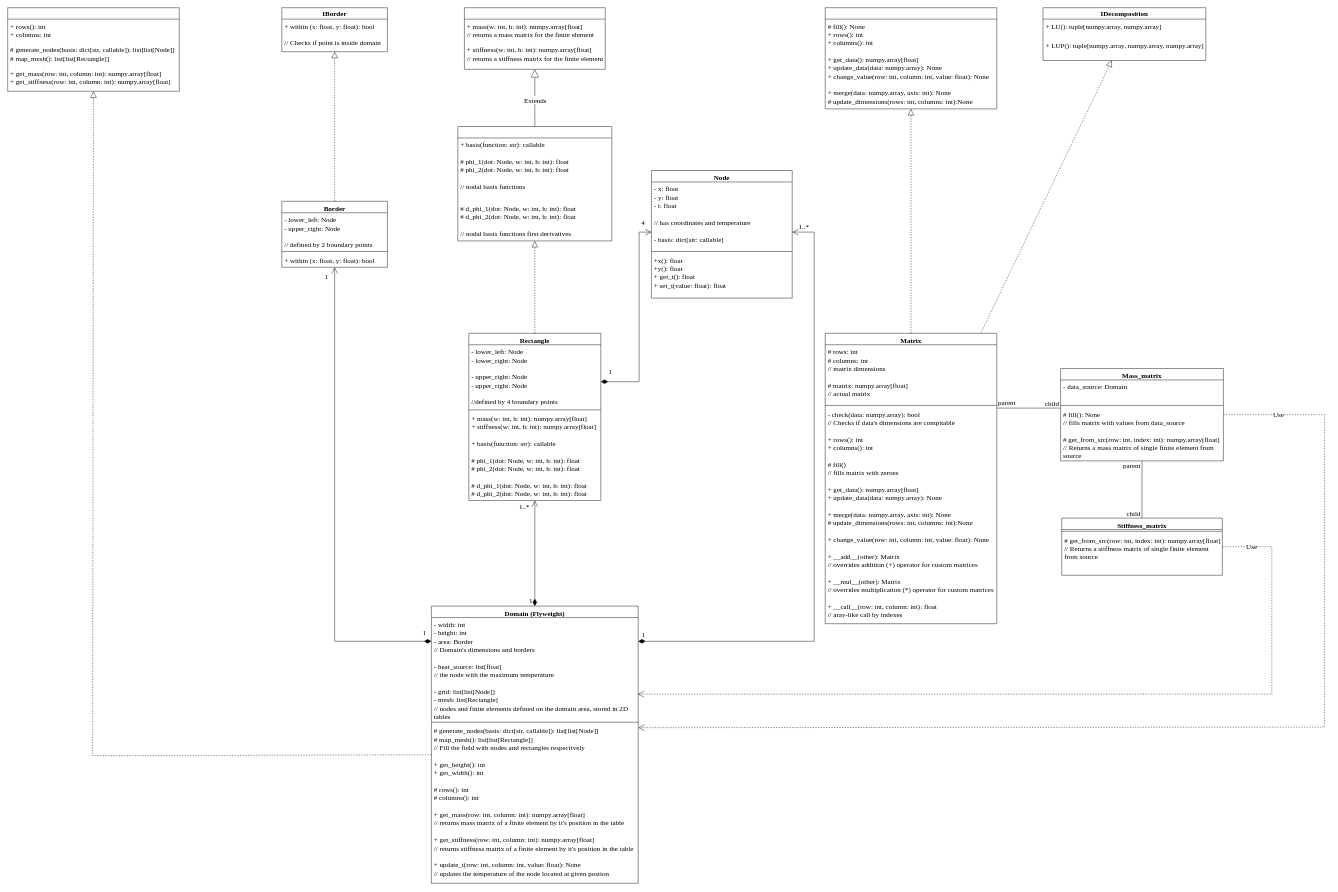
Some shapes in this 1338 by 892 pixel diagram are drawn without their labels. Here are the shapes that lost their labels. From the top down, the box of each, then its label:
(7, 7, 179, 91): IDomain
(464, 7, 605, 69): IFinite
(825, 7, 997, 109): IMatrix
(457, 126, 612, 241): IBasis
